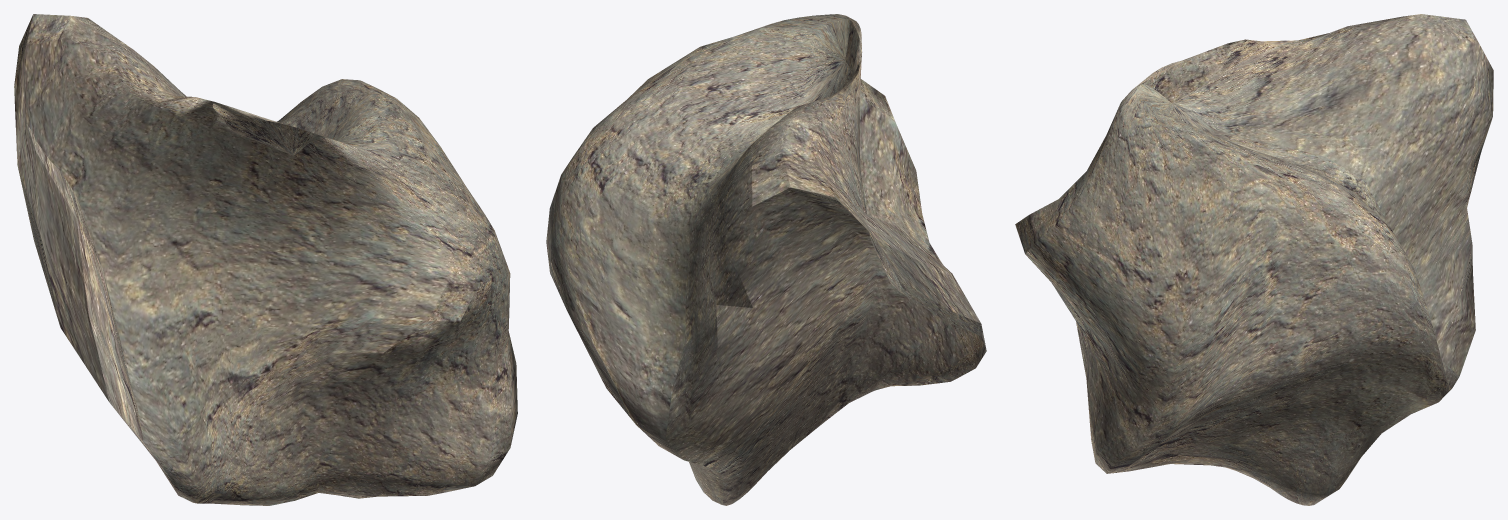
Rendered from Asteroid_FBX.FBX.
3 views of the same model, side by side, from view 1: azimuth 30°, elevation 25°; view 2: azimuth 150°, elevation 25°; view 3: azimuth 270°, elevation 25° (orthographic). The views are drawn at different scales.
Visible parts, largest first — view 1: Asteroid; view 2: Asteroid; view 3: Asteroid.
Boxes of the visible parts, x1=… form: Asteroid: x1=14, y1=14, x2=517, y2=505; Asteroid: x1=546, y1=14, x2=986, y2=505; Asteroid: x1=1015, y1=14, x2=1493, y2=505.
Size of the model in its own units: 37.31 by 42.63 by 42.99.
Materials: 1 (1 with a texture image).
